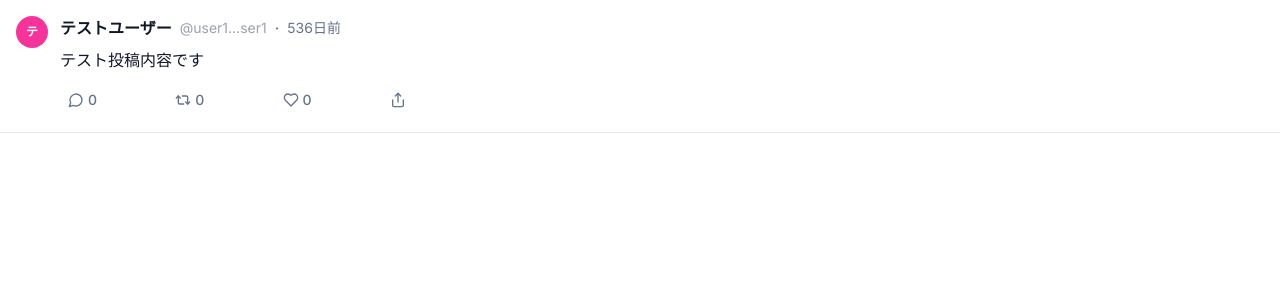
PostItem › should handle reply submission
// 返信フォームを開く
Click the 1st button "0" at (82, 100), box [60, 84, 105, 116]
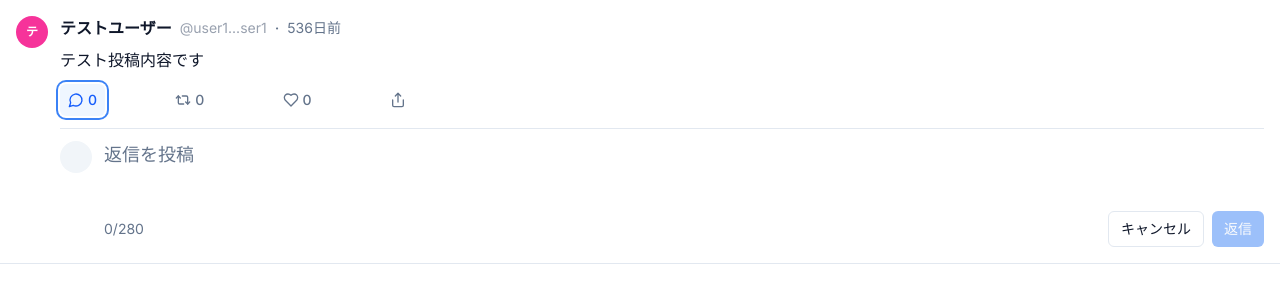
//  返信内容を入力
Type "テスト返信内容" into the text box with placeholder "返信を投稿" at (684, 169), box [104, 141, 1264, 197]
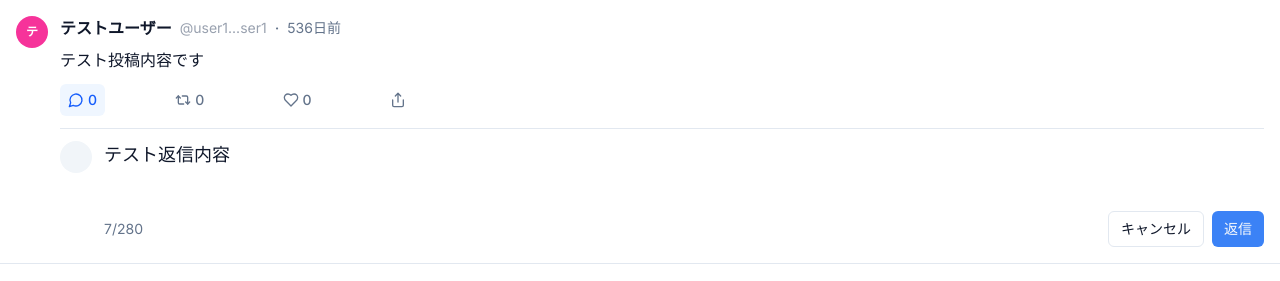
// 送信ボタンをクリック（返信フォーム内の返信ボタン）
Click the button "返信" at (1238, 229), box [1212, 211, 1264, 247]
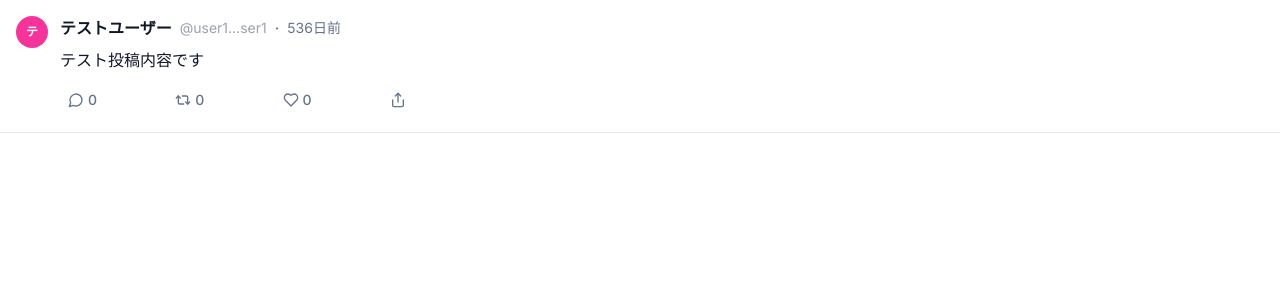
Expected: the text box with placeholder "返信を投稿" is gone
